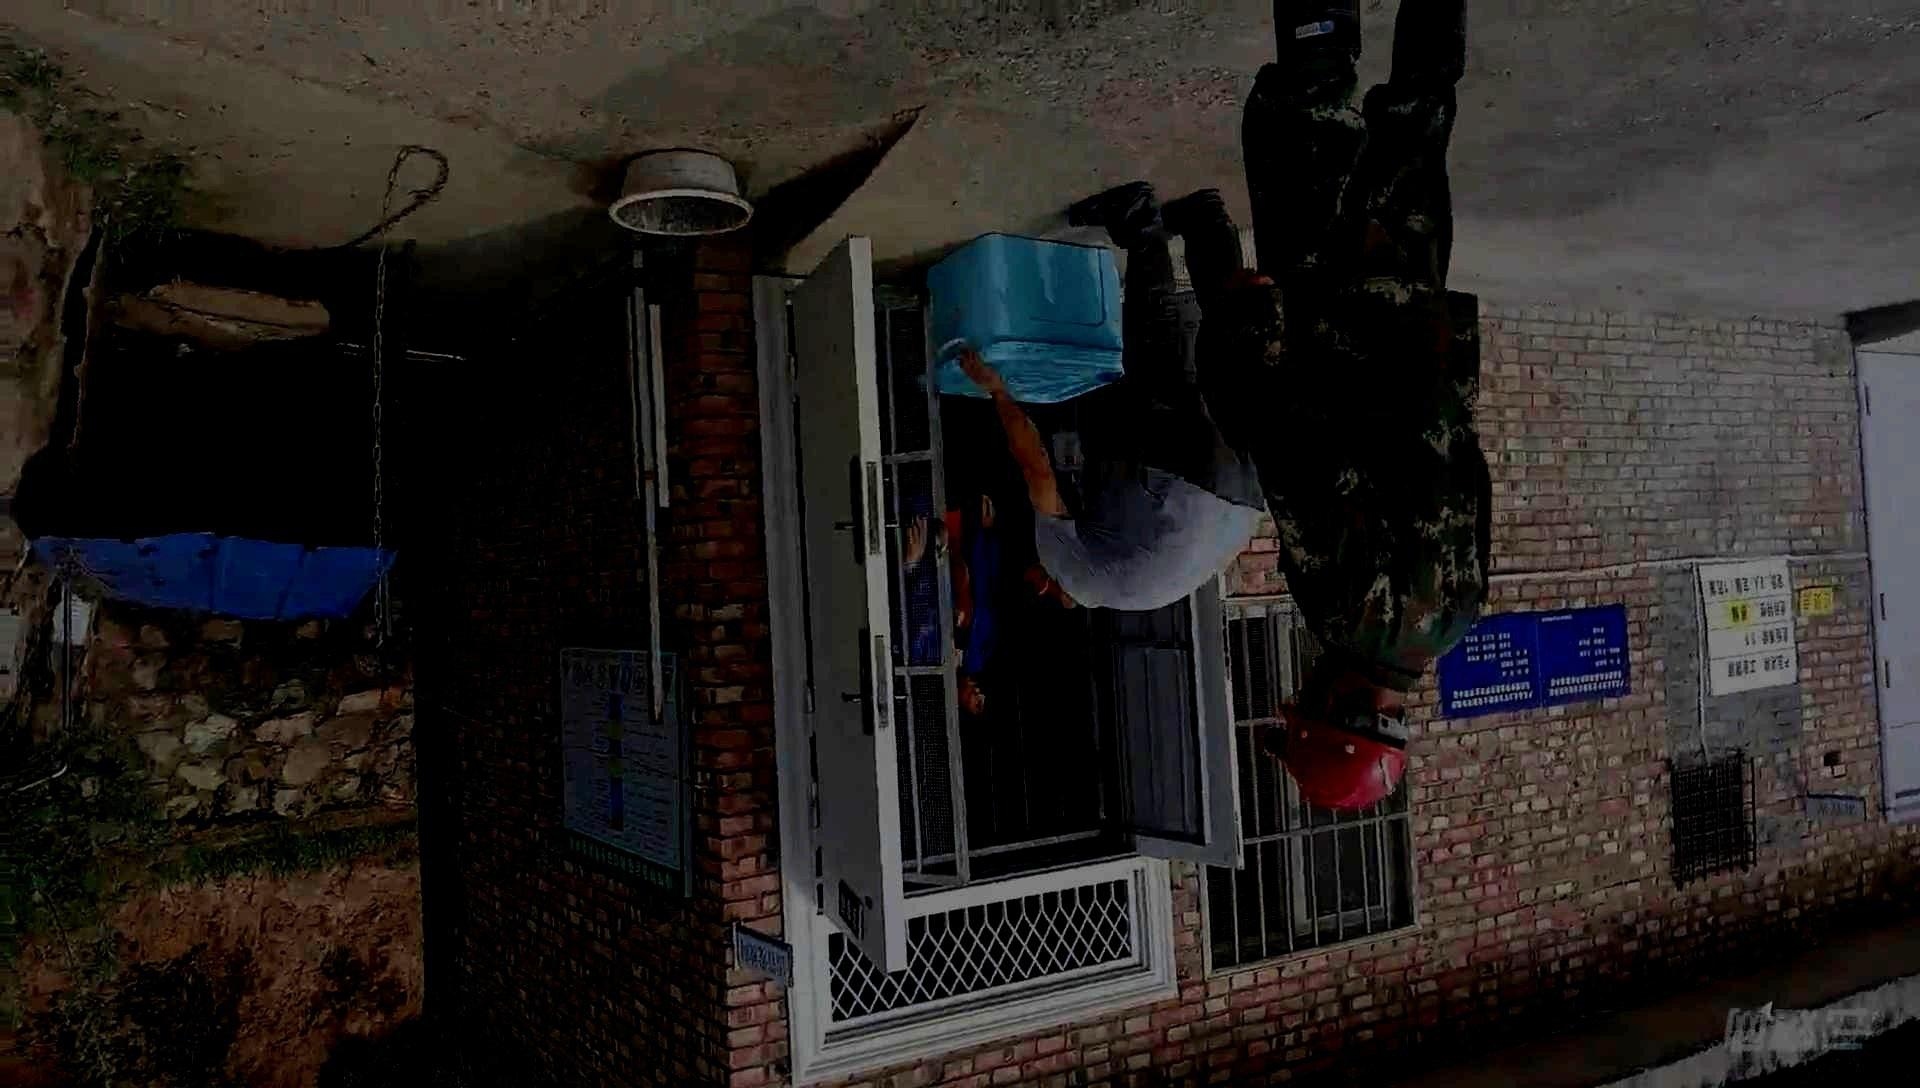helmet: (1276, 651, 1411, 811)
